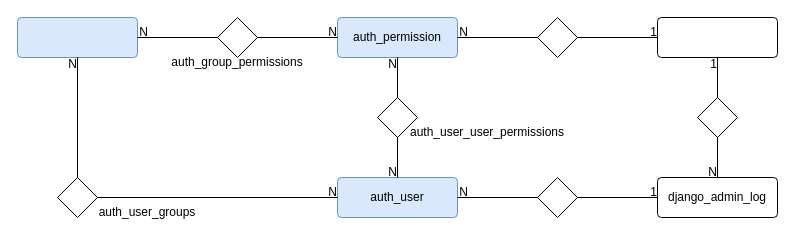
Image size: 795x245. Some labels were removed from this diagram. The centre of each missing label's shape, as x and y in pixels:
auth_group: [77,37]
django_content_type: [717,37]
